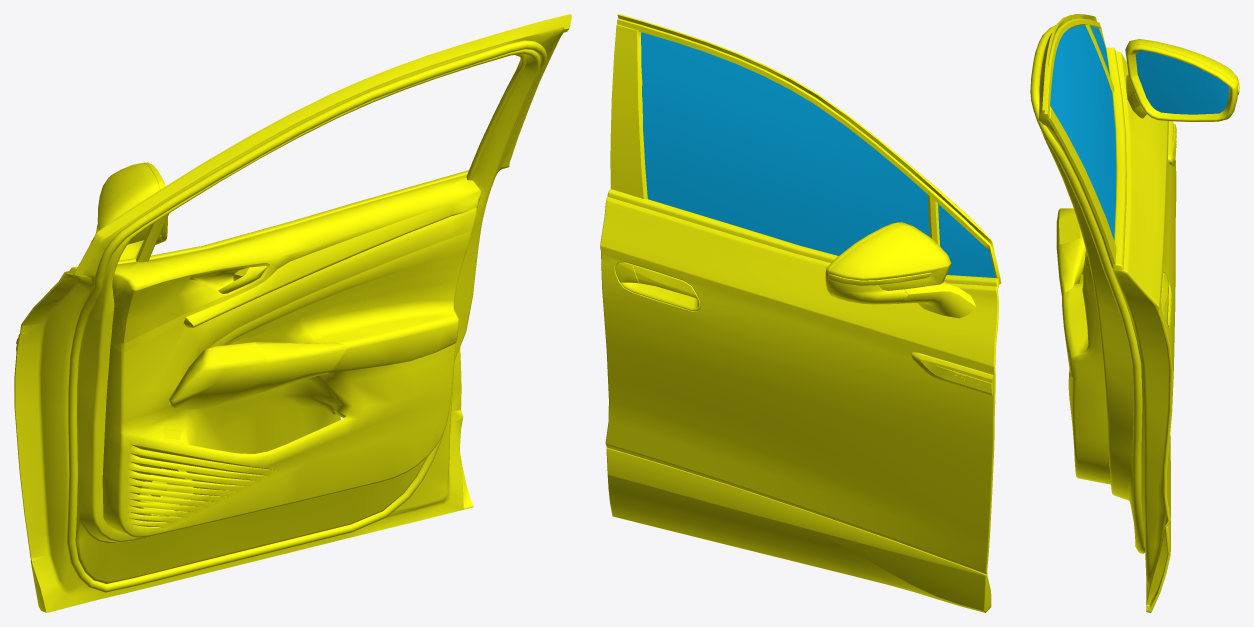
File: Men_YouQian.glb
3 renders of one model, left to right at view 1: azimuth 30°, elevation 25°; view 2: azimuth 150°, elevation 25°; view 3: azimuth 270°, elevation 25°, orthographic. The views are drawn at different scales.
Parts seen in each view (by area): view 1: WaiKe11, WaiKe16, 对象092, 对象083, WaiKe10, 对象043, 对象077, 对象032, 贴图8; view 2: 对象036, Material__299, 对象038, 对象043, 对象083, 对象029, 对象032, 对象022, 对象088, 对象099; view 3: WaiKe16, 对象036, Material__299, WaiKe10, WaiKe11, 对象081, 对象043, 对象083, 对象032, 对象108, 对象092, 对象029 (+3 smaller).
Boxes of the visible parts, x1,y1,x2,y2 form: WaiKe11: (102,176,480,537); WaiKe16: (15,27,564,612); 对象092: (209,230,472,373); 对象083: (16,163,346,409); WaiKe10: (66,40,546,592); 对象043: (73,14,571,277); 对象077: (183,202,465,327); 对象032: (69,163,509,273); 贴图8: (165,344,265,440); 对象036: (600,197,998,574); Material__299: (641,32,995,277); 对象038: (606,447,991,612); 对象043: (617,14,1001,318); 对象083: (829,222,993,395); 对象029: (610,24,647,198); 对象032: (607,189,999,286); 对象022: (615,262,698,298); 对象088: (921,360,993,393); 对象099: (828,272,931,285); WaiKe16: (1039,61,1170,611); 对象036: (1112,51,1176,527); Material__299: (1050,25,1116,239); WaiKe10: (1030,25,1144,553); WaiKe11: (1068,252,1110,484); 对象081: (1135,50,1228,114); 对象043: (1038,14,1237,267); 对象083: (1056,39,1238,296); 对象032: (1106,47,1126,269); 对象108: (1126,44,1237,121); 对象092: (1062,283,1094,379); 对象029: (1047,106,1116,264).
Size of the model in its own units: 1.25 by 1.27 by 0.4537.
4 materials, 3 textured.
